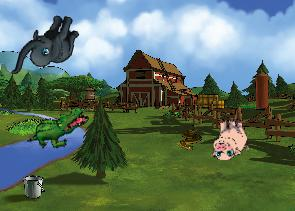crocodile: (25, 94, 91, 162)
elephant: (10, 5, 82, 87)
pig: (209, 117, 249, 160)
